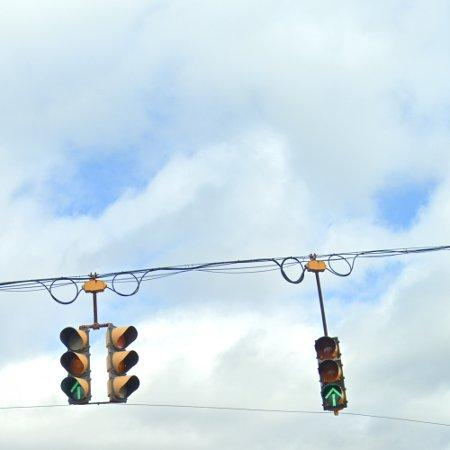traffic lights: (107, 327, 140, 404), (316, 337, 348, 412), (60, 328, 91, 405)
